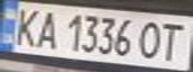1: (60, 10, 84, 52)
3: (78, 11, 100, 55), (97, 14, 118, 56)
6: (115, 16, 139, 57)
A: (30, 7, 63, 50)
K: (6, 4, 42, 47)
O: (133, 18, 166, 61)
T: (154, 19, 190, 62)
